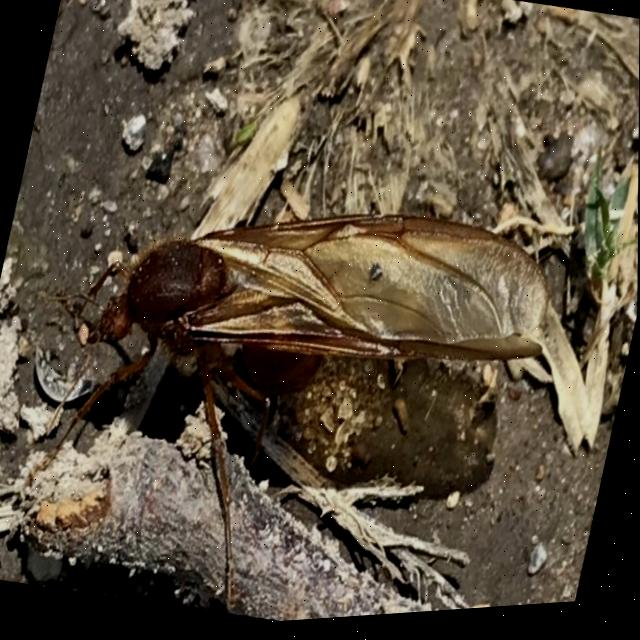Alive-Male-Alate: (0, 137, 568, 640)
